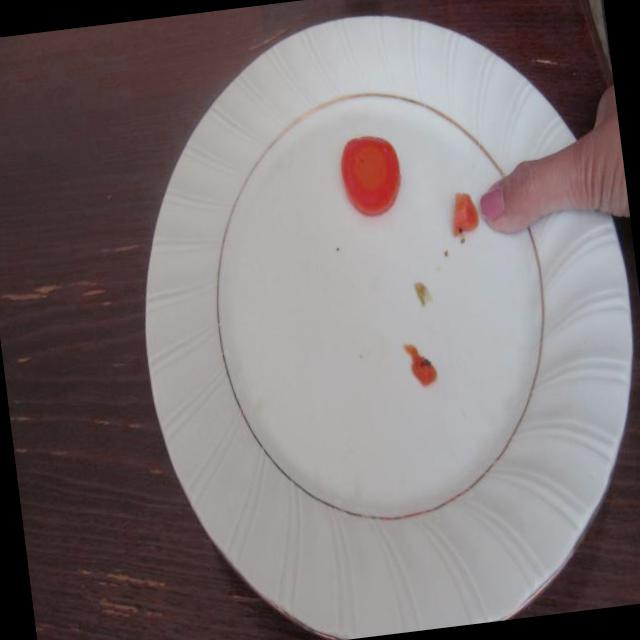Carrot: (330, 115, 412, 232)
Finger: (469, 146, 555, 242)
